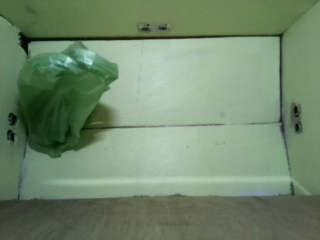plastic-bag: (15, 42, 118, 152)
